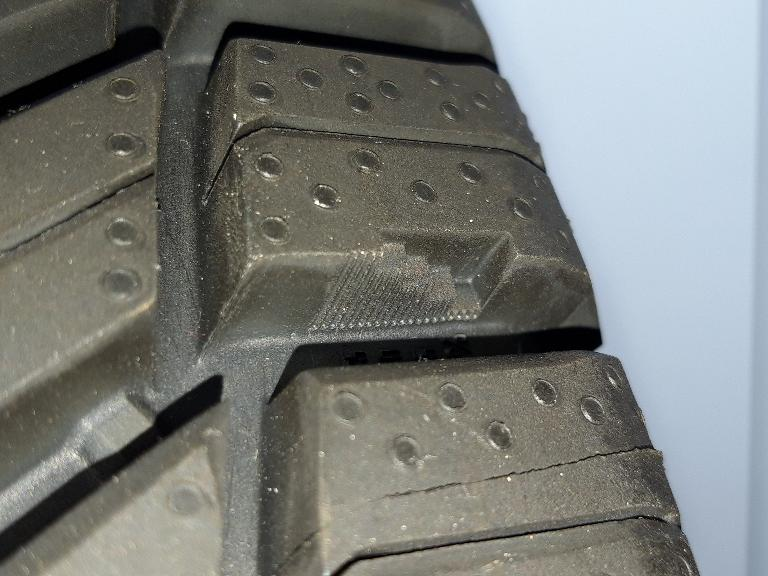temoin:100: (302, 222, 525, 339)
